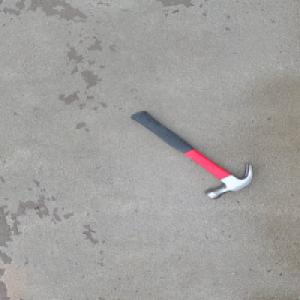Hammer: (127, 108, 253, 198)
